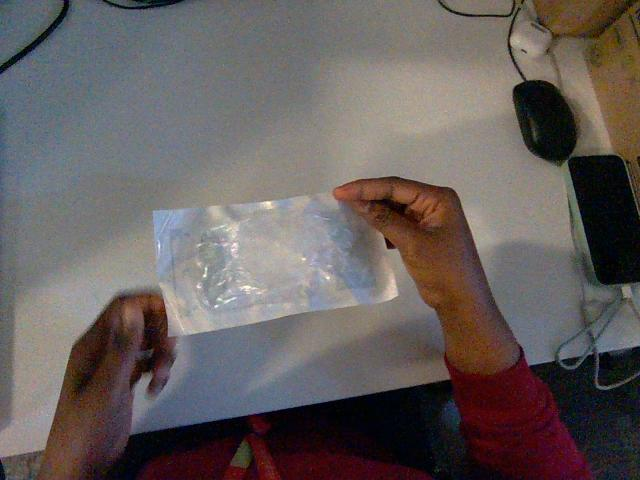gallipot: (153, 194, 396, 334)
